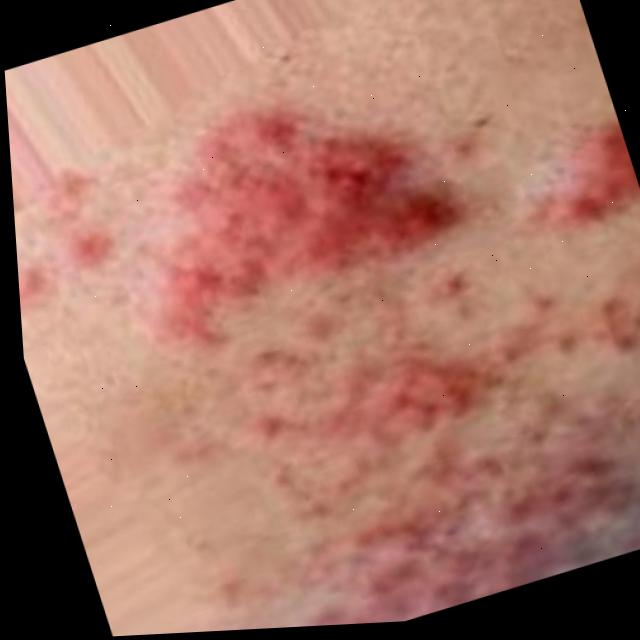Shingles: (199, 209, 640, 631), (102, 54, 491, 360), (510, 110, 640, 237)
